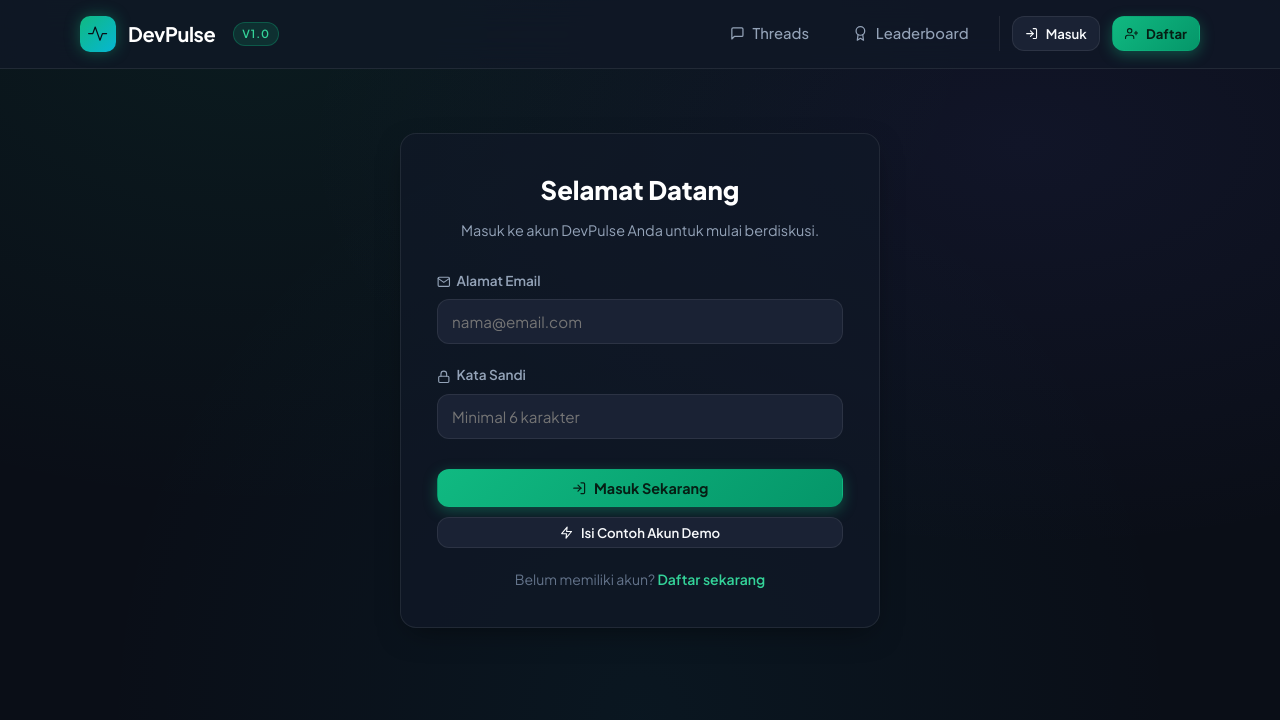
Login spec › harus berhasil login dan berpindah ke halaman utama ketika kredensial benar
The image size is (1280, 720).
Type "budi@example.com" into the field labelled "Alamat Email" at (640, 322), box [437,299,843,344]
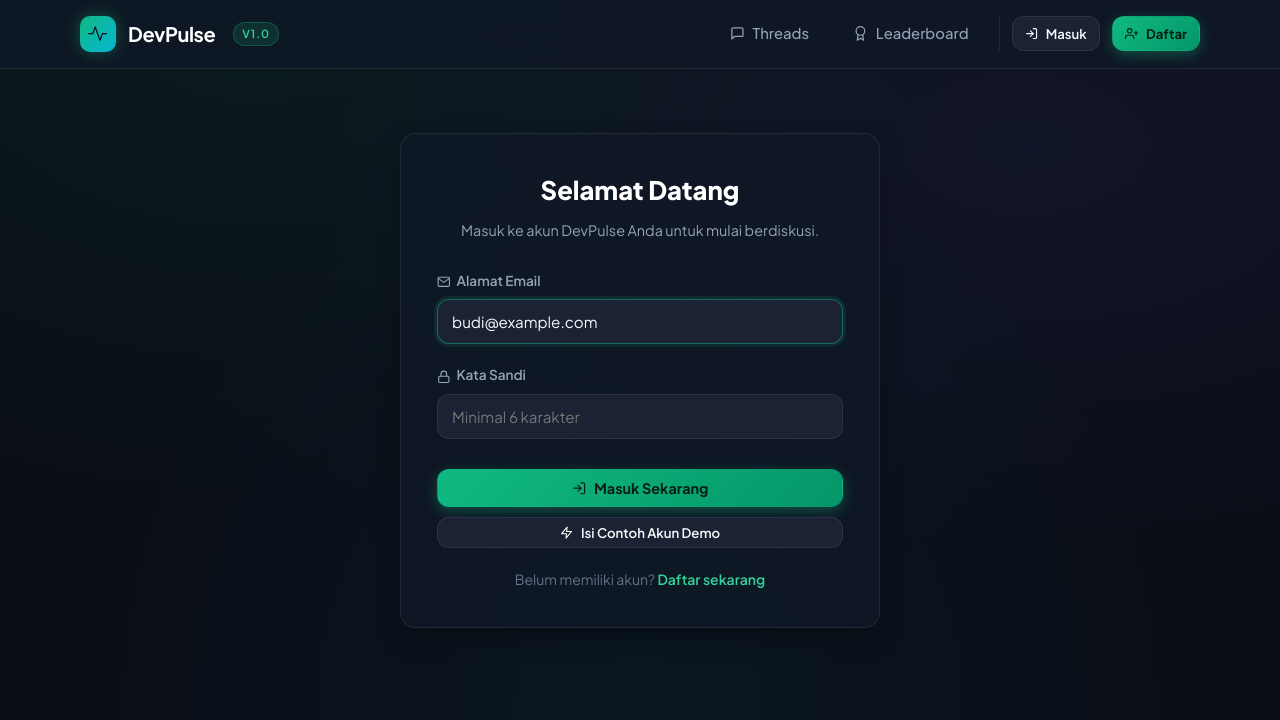
Type "secretpassword" into the password field labelled "Kata Sandi" at (640, 417), box [437,394,843,439]
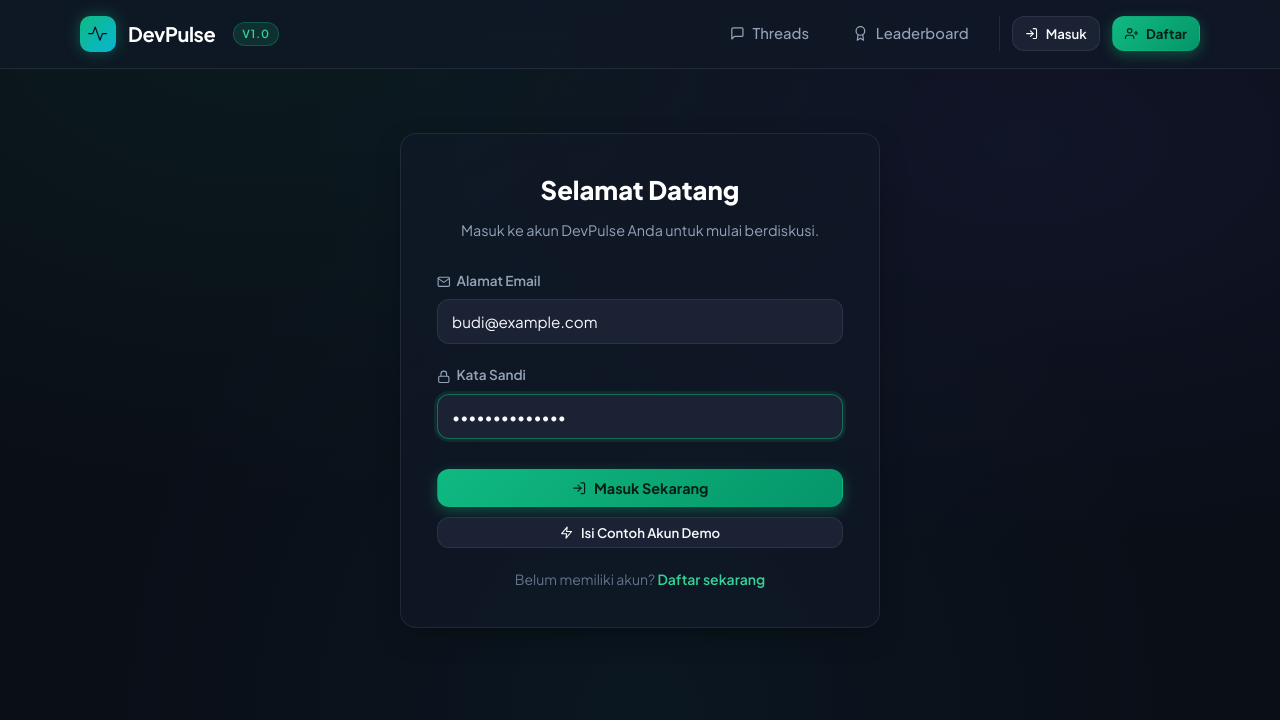
Click the submit button at (640, 488), box [437,469,843,507]
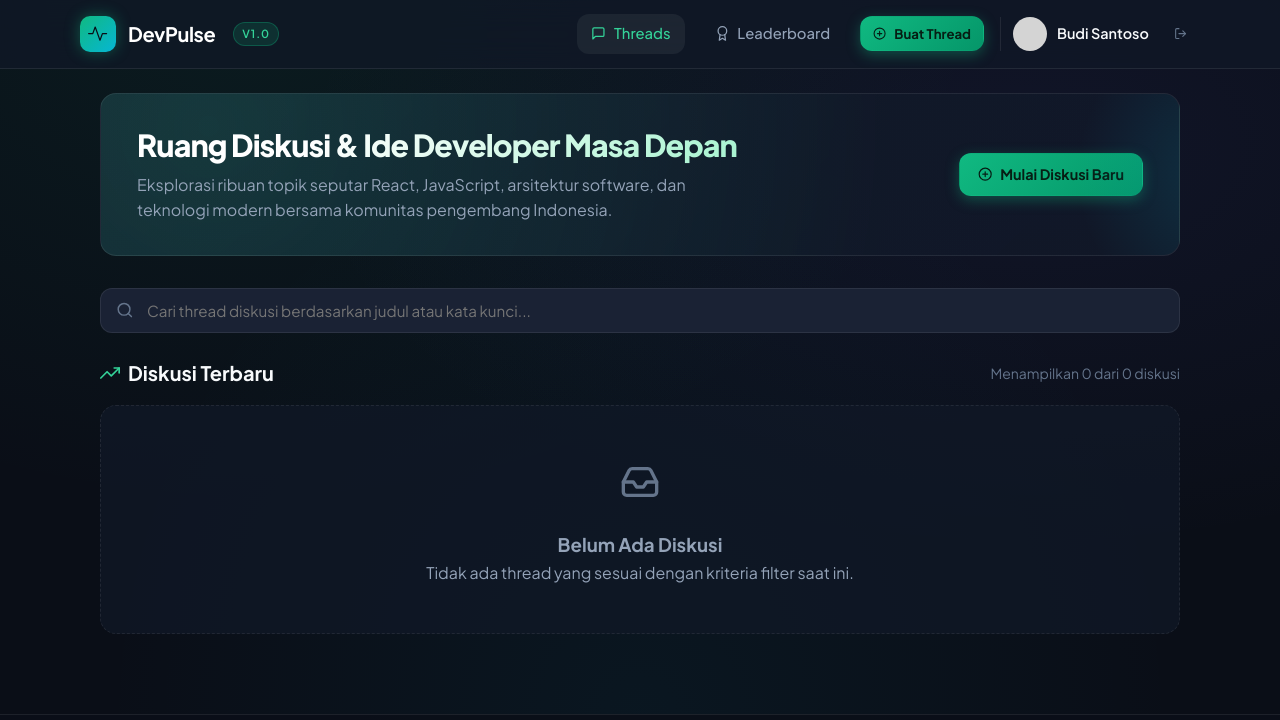
Expected: the element with class "nav-user" is shown, [1000,17,1200,51]
Result: the text "Budi Santoso" is shown at [1057,22,1149,45]
